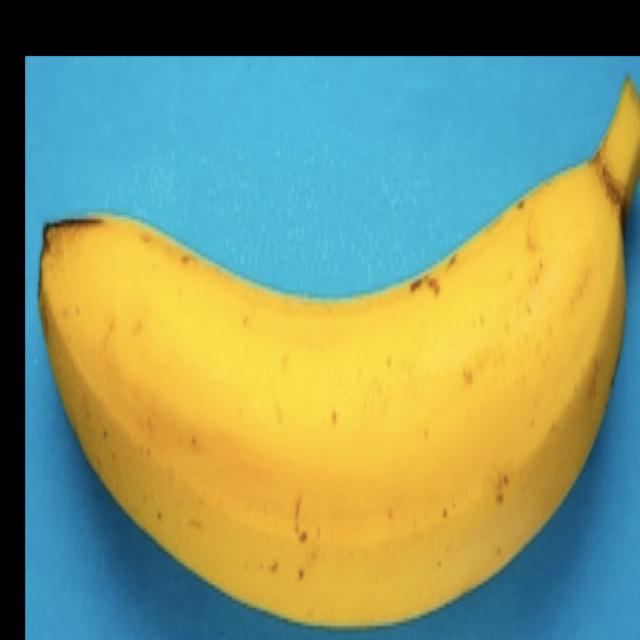Banana: (37, 73, 639, 629)
